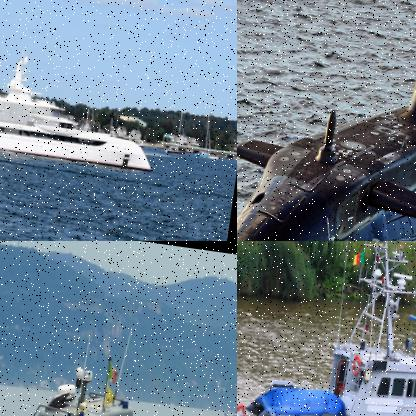Patrol Boat: (237, 241, 415, 415), (0, 300, 236, 415), (229, 405, 236, 415)
Sails Boat: (195, 112, 224, 160), (164, 104, 190, 154)
Submarine: (237, 0, 415, 240)
Yacht: (0, 35, 166, 172)
